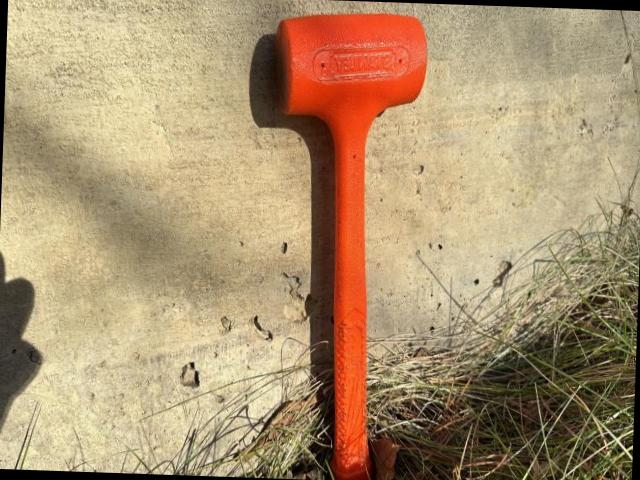hammer: (255, 9, 429, 480)
